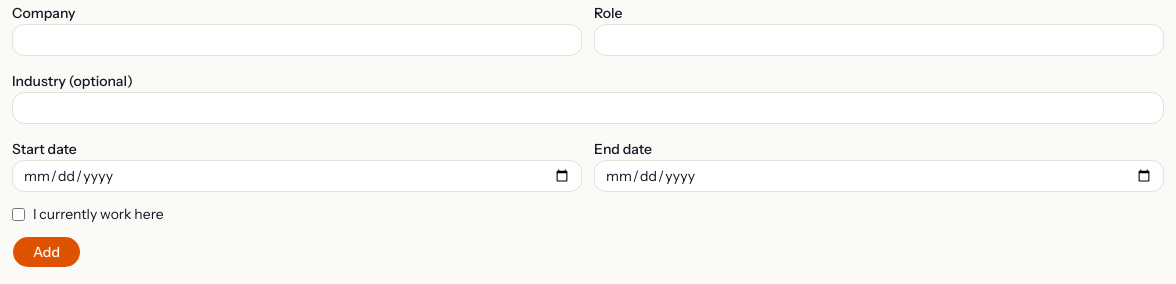
ExperienceForm › disables and clears the end date when 'current role' is checked
Type "2021-01-01" into the date field labelled "End date" at (879, 176), box [594,160,1164,192]
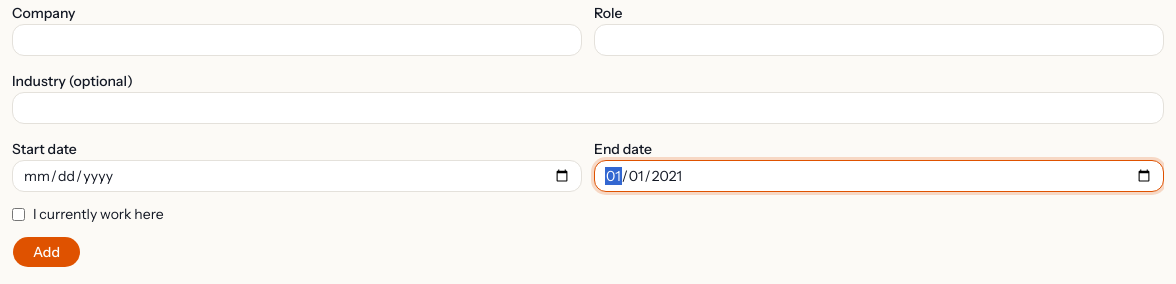
Click the checkbox labelled "I currently work here" at (18, 214), box [12,208,25,220]
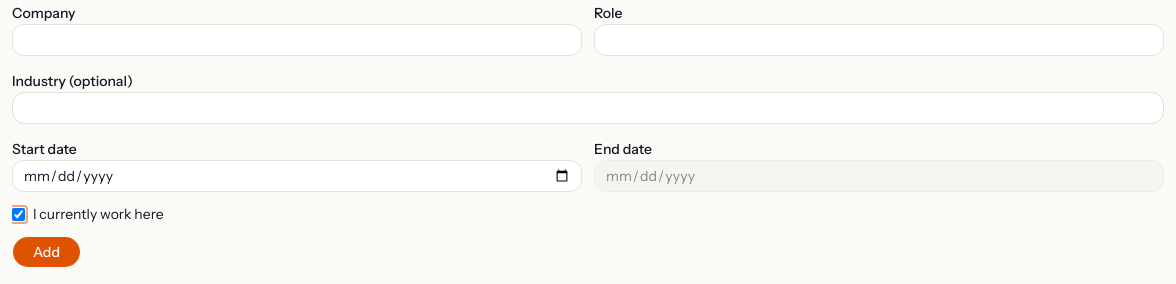
Expected: the date field labelled "End date" is disabled, [594,160,1164,192]
Expected: the date field labelled "End date" is empty, [594,160,1164,192]
